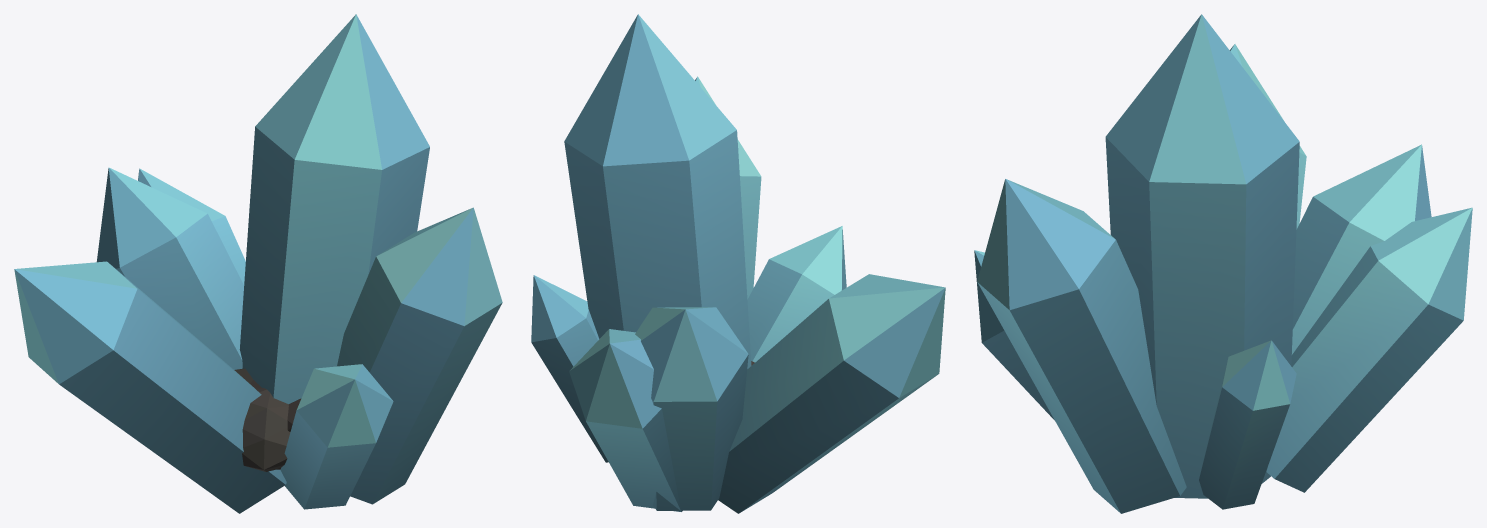
File: crystal_star_a.glb
The picture shows the model from 3 angles, left to right: view 1: azimuth 30°, elevation 25°; view 2: azimuth 150°, elevation 25°; view 3: azimuth 270°, elevation 25°; orthographic projection. The views are drawn at different scales.
Parts seen in each view (by area): view 1: crystal_star_a_crystal, crystal_star_a_solid; view 2: crystal_star_a_crystal; view 3: crystal_star_a_crystal.
Part boxes in pixels (left/top/right/bottom): crystal_star_a_crystal: left=14, top=14, right=502, bottom=513; crystal_star_a_solid: left=234, top=368, right=301, bottom=471; crystal_star_a_crystal: left=531, top=14, right=945, bottom=513; crystal_star_a_crystal: left=974, top=14, right=1472, bottom=513.
Size of the model in its own units: 1.78 by 1.93 by 1.71.
